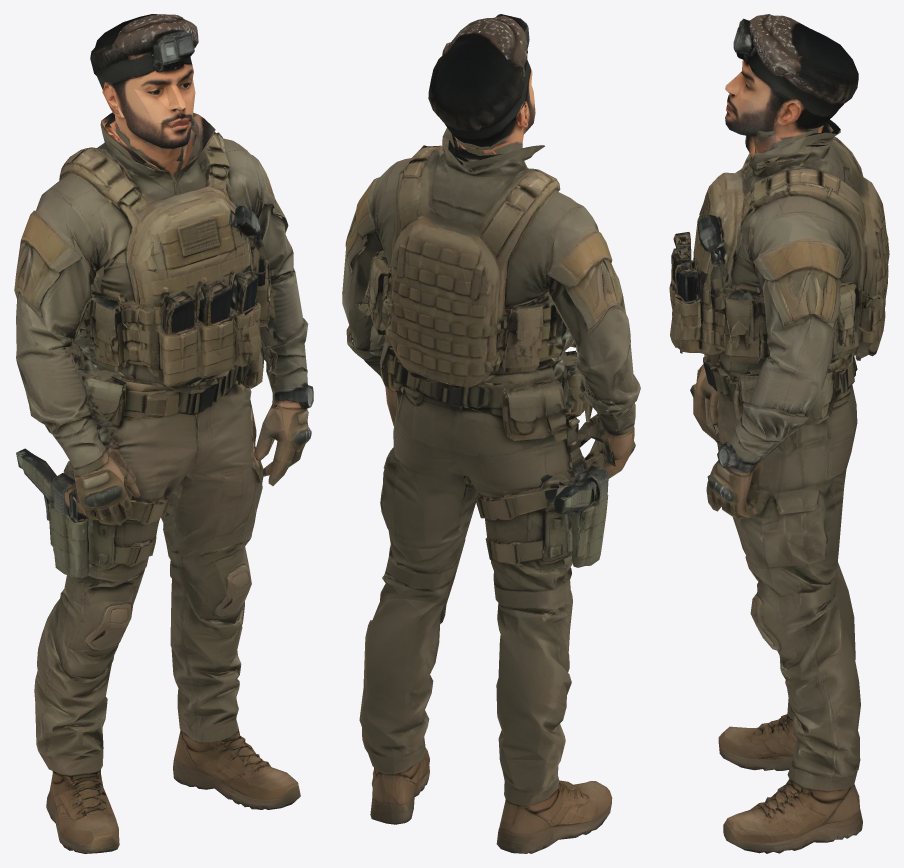
Rendered from newguy-raw.glb.
3 renders of one model, left to right at view 1: azimuth 30°, elevation 25°; view 2: azimuth 150°, elevation 25°; view 3: azimuth 270°, elevation 25°, orthographic. The views are drawn at different scales.
Visible parts, largest first — view 1: output_unwrapped; view 2: output_unwrapped; view 3: output_unwrapped.
Boxes of the visible parts, box(x1,y1,x2,y2) form: output_unwrapped: box(14, 14, 313, 853); output_unwrapped: box(342, 14, 640, 853); output_unwrapped: box(669, 14, 889, 853).
Bounding box in the file's own units: 0.7002 × 1.9 × 0.4876.
1 material, 1 textured.
